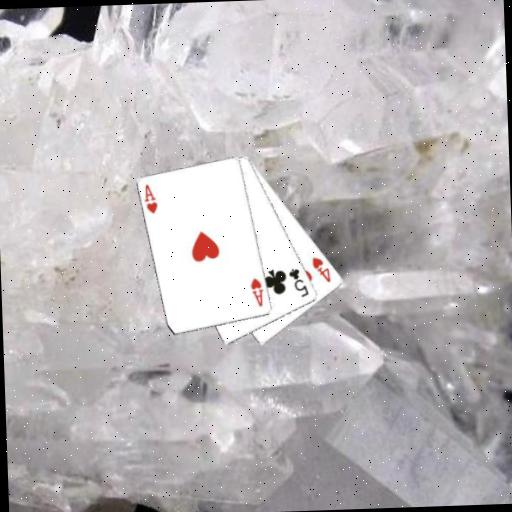4H: (309, 253, 333, 284)
5C: (285, 264, 310, 299)
AH: (141, 180, 160, 215), (247, 274, 265, 308)
